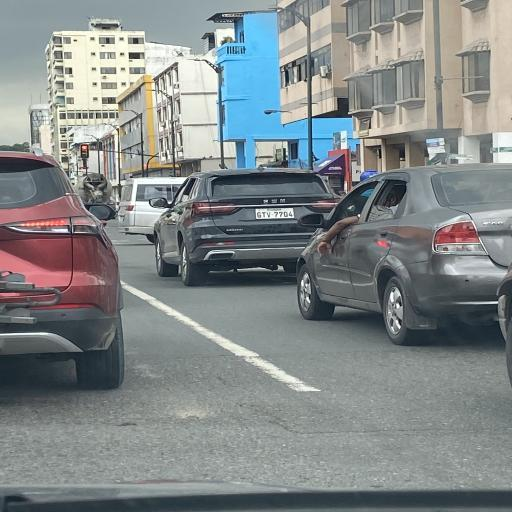license_plate: (256, 212, 262, 218), (274, 212, 278, 218), (284, 212, 288, 218), (289, 211, 293, 217), (262, 212, 266, 217), (266, 212, 270, 217), (279, 212, 283, 217)
